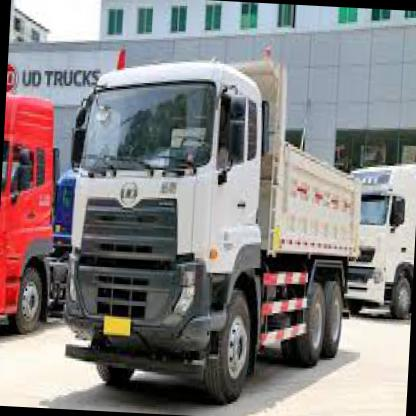truck: (60, 55, 277, 408)
